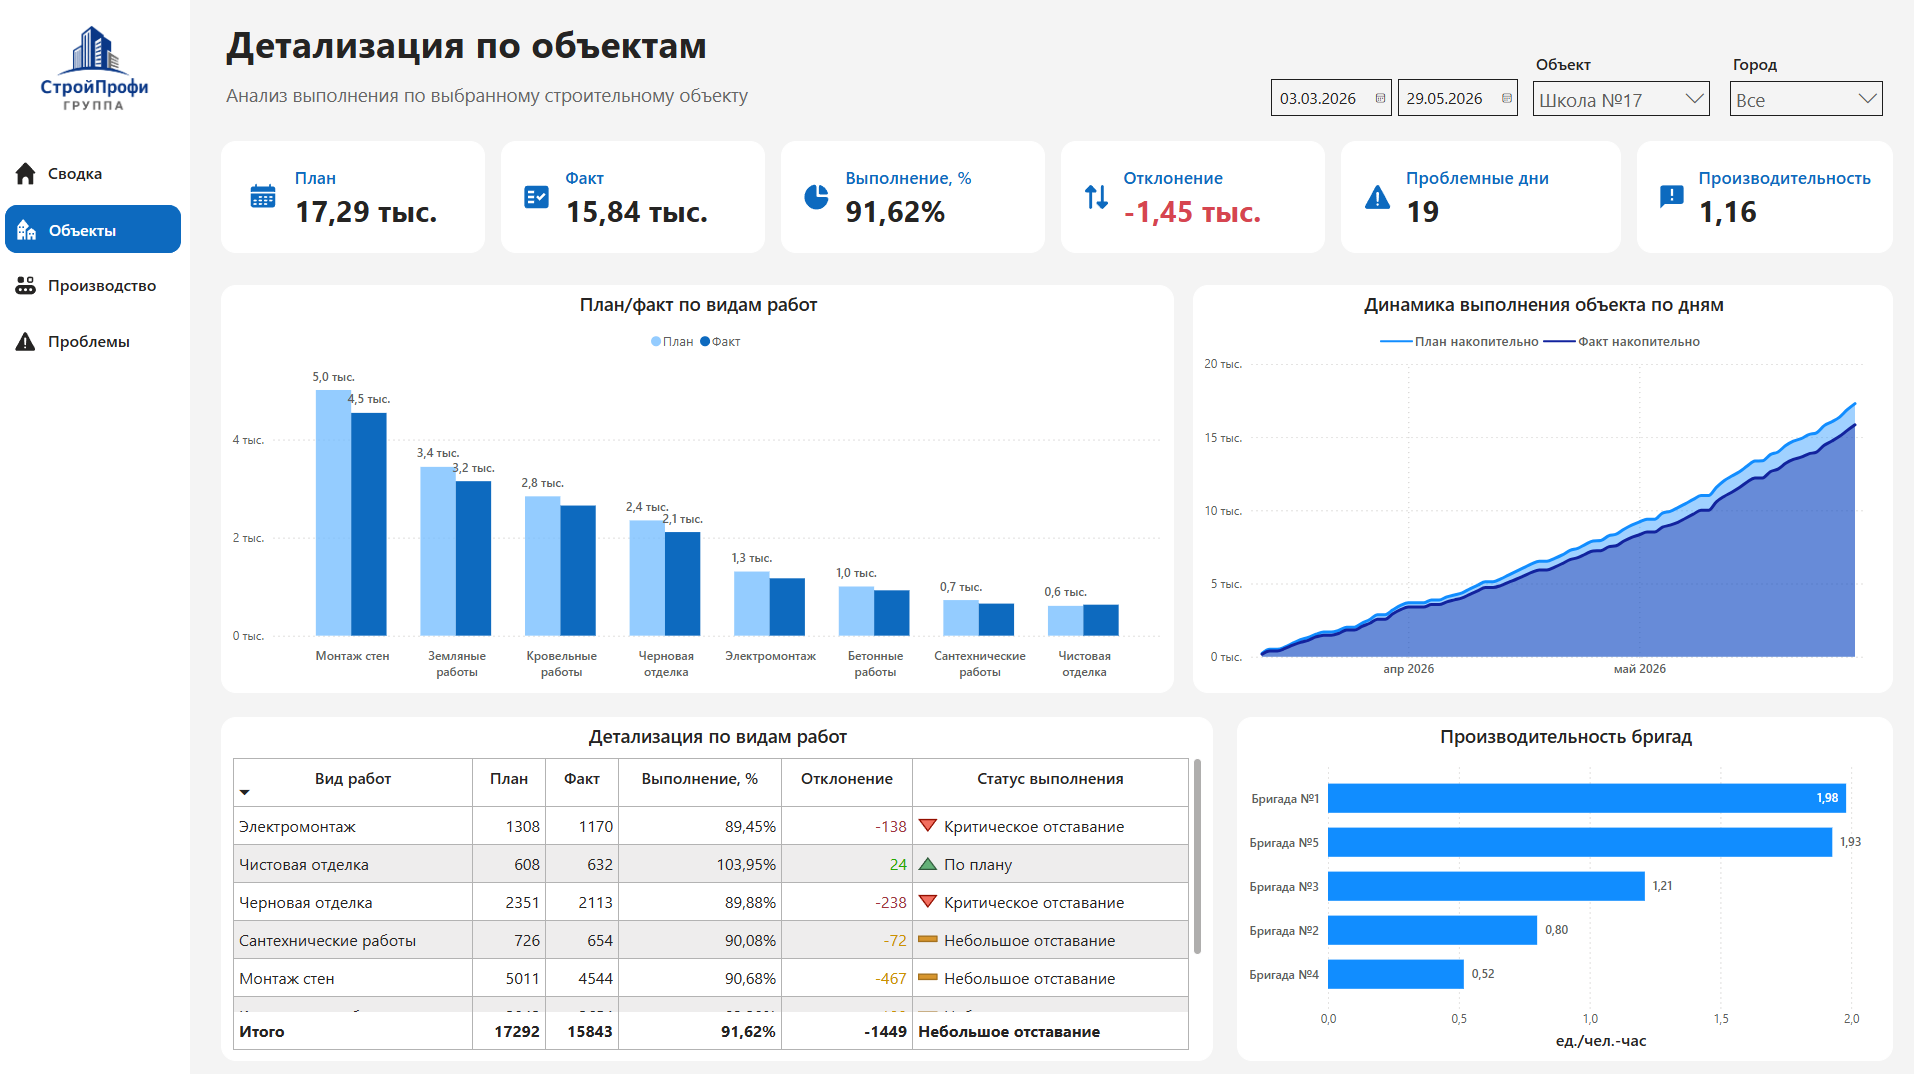

The dashboard page shown, as its layout file describes it:
{"tool":"powerbi","page":{"name":"Объекты","canvas":[1920,1080],"ordinal":1},"visuals":[{"type":"shape","box":[0,0,192.5,1080],"z":0},{"type":"textbox","box":[46.5,160,82.2,31.1],"z":0,"group":"g1"},{"type":"textbox","box":[46.5,216,82.2,31.1],"z":0,"group":"g3"},{"type":"textbox","box":[46.2,272,121.7,31.2],"z":0,"group":"g2"},{"type":"textbox","box":[46.2,328,121.7,31.2],"z":0,"group":"g4"},{"type":"group","id":"g1","title":"Группа 1","box":[16,160,112,24],"z":1000},{"type":"image","box":[16,163.2,24.9,25.6],"z":1000,"group":"g1"},{"type":"shape","box":[7.5,207.5,176.2,47.9],"z":1000,"group":"g5"},{"type":"image","box":[16,219.2,24.9,25.6],"z":1000,"group":"g3"},{"type":"image","box":[16,275.4,24.9,25.6],"z":1000,"group":"g2"},{"type":"image","box":[16,331.4,24.9,25.6],"z":1000,"group":"g4"},{"type":"group","id":"g2","title":"Группа 1","box":[16,272,152,32],"z":2000},{"type":"group","id":"g3","title":"Группа 1","box":[16,216,112,32],"z":3000,"group":"g5"},{"type":"group","id":"g4","title":"Группа 1","box":[16,328,152,32],"z":3000},{"type":"textbox","box":[224,16,1088,64],"z":4000},{"type":"textbox","box":[224,80,612,40],"z":5000},{"type":"cardVisual","title":"43","fields":{"Data":["Меры.План"]},"box":[224,144,264,112],"z":6000},{"type":"cardVisual","title":"43","fields":{"Data":["Меры.Факт"]},"box":[504,144,264,112],"z":7000},{"type":"cardVisual","title":"43","fields":{"Data":["Меры.Выполнение, %"]},"box":[784,144,264,112],"z":8000},{"type":"cardVisual","title":"43","fields":{"Data":["Меры.Отклонение"]},"box":[1064,144,264,112],"z":9000},{"type":"cardVisual","title":"43","fields":{"Data":["Меры.Проблемные дни"]},"box":[1344,144,280,112],"z":10000},{"type":"cardVisual","title":"43","fields":{"Data":["Меры.Производительность"]},"box":[1640,144,256,112],"z":11000},{"type":"tableEx","title":"Детализация по видам работ","fields":{"Values":["DimWorkTypes.WorkTypeName","Меры.План","Меры.Факт","Меры.Выполнение, %","Меры.Отклонение","Меры.Статус выполнения"]},"box":[224,720,992,344],"z":12000},{"type":"clusteredBarChart","title":"Производительность бригад","fields":{"Y":["Меры.Производительность"],"Category":["DimTeams.TeamName"]},"box":[1240,720,656,344],"z":13000},{"type":"lineChart","title":"Динамика выполнения объекта по дням","fields":{"Y":["Меры.План накопительно","Меры.Факт накопительно"],"Category":["Calendar.Date.Изменение.Иерархия дат.Год"]},"box":[1196,288,700,408],"z":14000},{"type":"slicer","fields":{"Values":["Calendar.Date"]},"box":[1261,72,272,56],"z":15000},{"type":"slicer","title":"Объект","fields":{"Values":["DimObjects.ObjectName"]},"box":[1526,51,197,97],"z":16000},{"type":"slicer","title":"Объект","fields":{"Values":["DimObjects.City"]},"box":[1723,51,173,97],"z":17000},{"type":"image","box":[23,0,146,152],"z":18000},{"type":"group","id":"g5","title":"Группа 2","box":[7.5,207.5,176.2,47.9],"z":19000},{"type":"clusteredColumnChart","title":"План/факт по видам работ","fields":{"Y":["Меры.План","Меры.Факт"],"Category":["DimWorkTypes.WorkTypeName"]},"box":[224,288,953,408],"z":20000},{"type":"actionButton","box":[6.9,149.2,175.7,52],"z":20001},{"type":"actionButton","box":[6.9,205.2,175.7,52],"z":20002},{"type":"actionButton","box":[6.9,262.1,175.7,52],"z":20003},{"type":"actionButton","box":[6.9,318,175.7,52],"z":20004}]}

Visuals, with their boxes in screenshot pixels (x1, y1, x2, y2), scaled from the page's 1920x1080 canvas onto the 1914x1074 screenshot:
shape: [0,0,192,1073]
textbox: [46,159,128,190]
textbox: [46,215,128,246]
textbox: [46,270,167,302]
textbox: [46,326,167,357]
"Группа 1" group: [16,159,128,183]
image: [16,162,41,188]
shape: [7,206,183,254]
image: [16,218,41,243]
image: [16,274,41,299]
image: [16,330,41,355]
"Группа 1" group: [16,270,167,302]
"Группа 1" group: [16,215,128,247]
"Группа 1" group: [16,326,167,358]
textbox: [223,16,1308,80]
textbox: [223,80,833,119]
"43" cardVisual: [223,143,486,255]
"43" cardVisual: [502,143,766,255]
"43" cardVisual: [782,143,1045,255]
"43" cardVisual: [1061,143,1324,255]
"43" cardVisual: [1340,143,1619,255]
"43" cardVisual: [1635,143,1890,255]
"Детализация по видам работ" tableEx: [223,716,1212,1058]
"Производительность бригад" clusteredBarChart: [1236,716,1890,1058]
"Динамика выполнения объекта по дням" lineChart: [1192,286,1890,692]
slicer - Calendar.Date: [1257,72,1528,127]
"Объект" slicer: [1521,51,1718,147]
"Объект" slicer: [1718,51,1890,147]
image: [23,0,168,151]
"Группа 2" group: [7,206,183,254]
"План/факт по видам работ" clusteredColumnChart: [223,286,1173,692]
actionButton: [7,148,182,200]
actionButton: [7,204,182,256]
actionButton: [7,261,182,312]
actionButton: [7,316,182,368]
